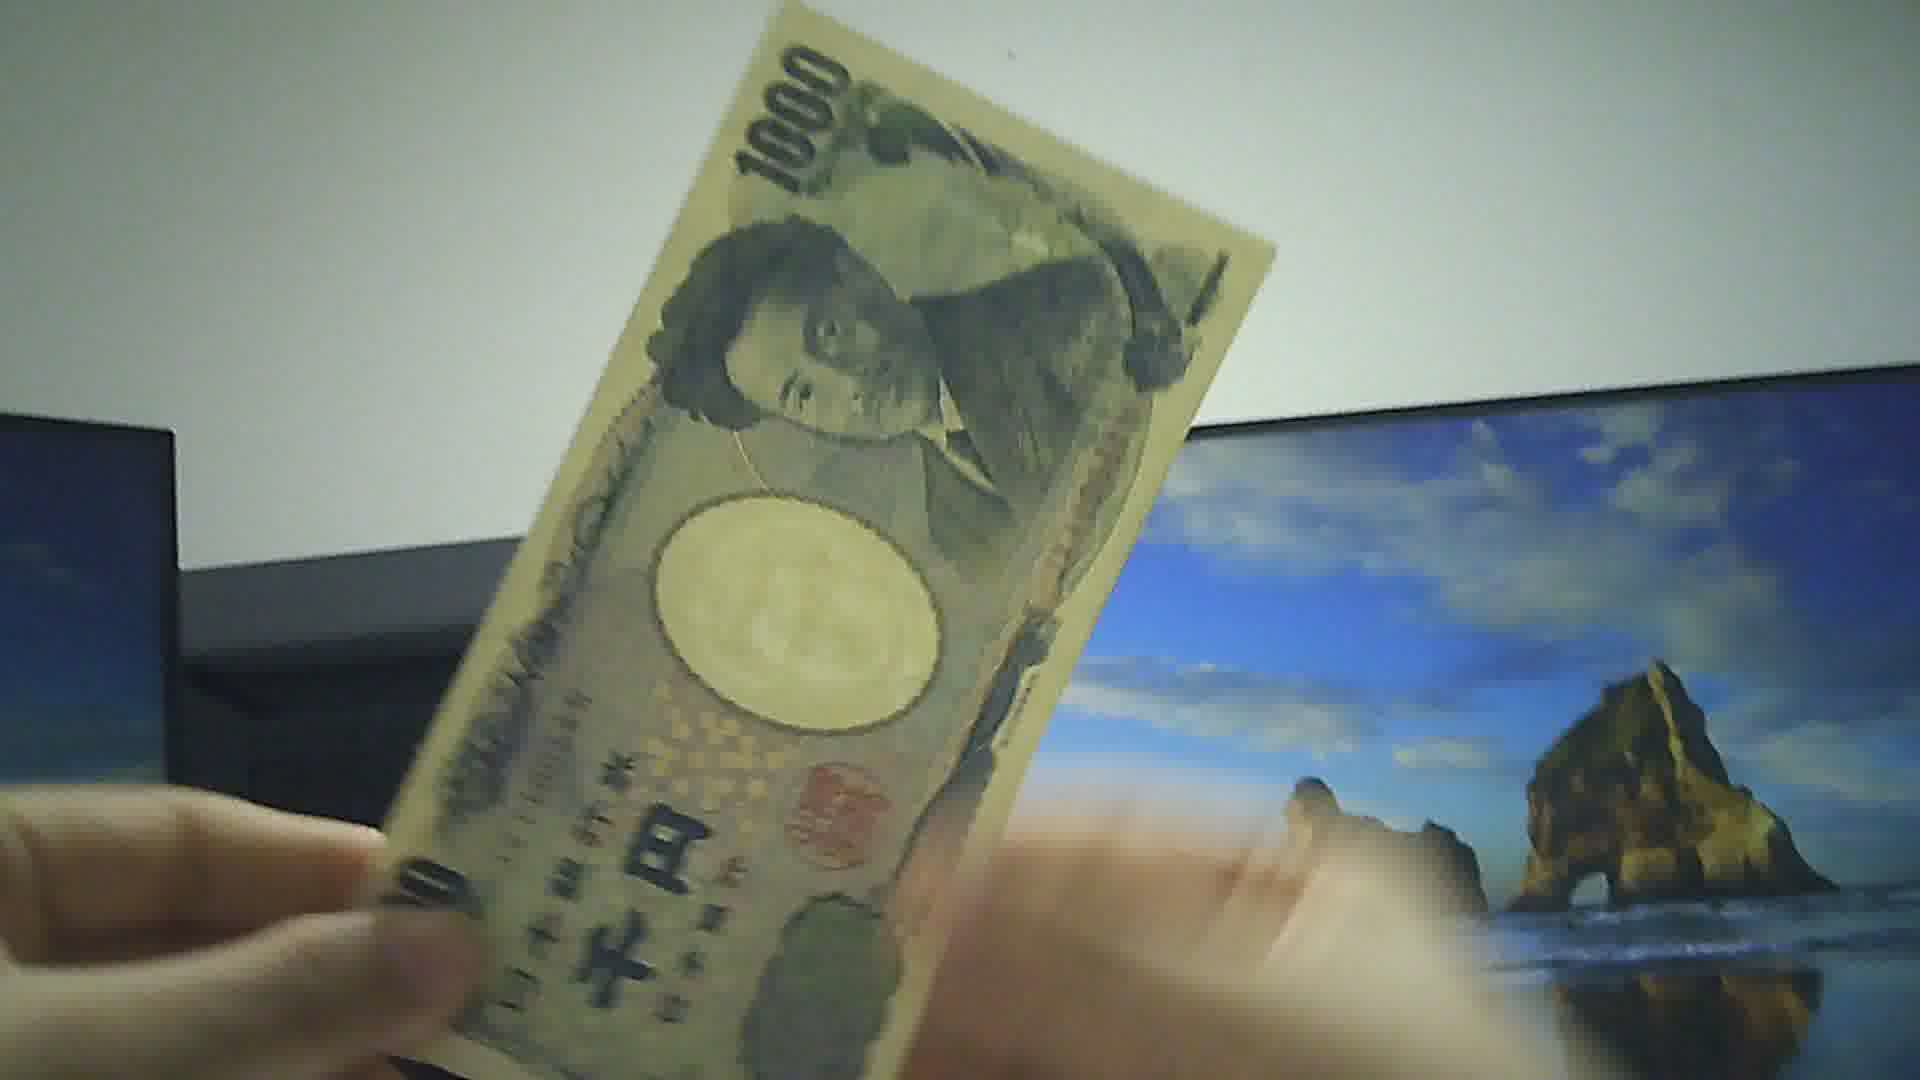1,000 Yen: (367, 7, 1242, 1079)
